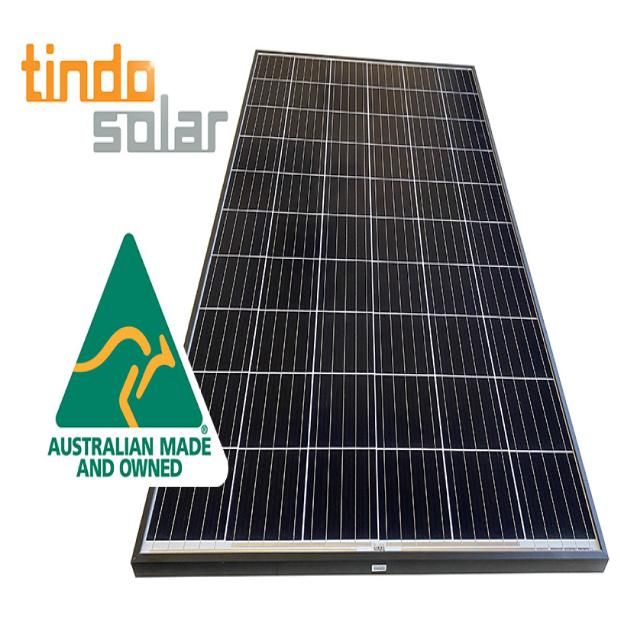clean-solar-panel: (141, 55, 605, 571)
